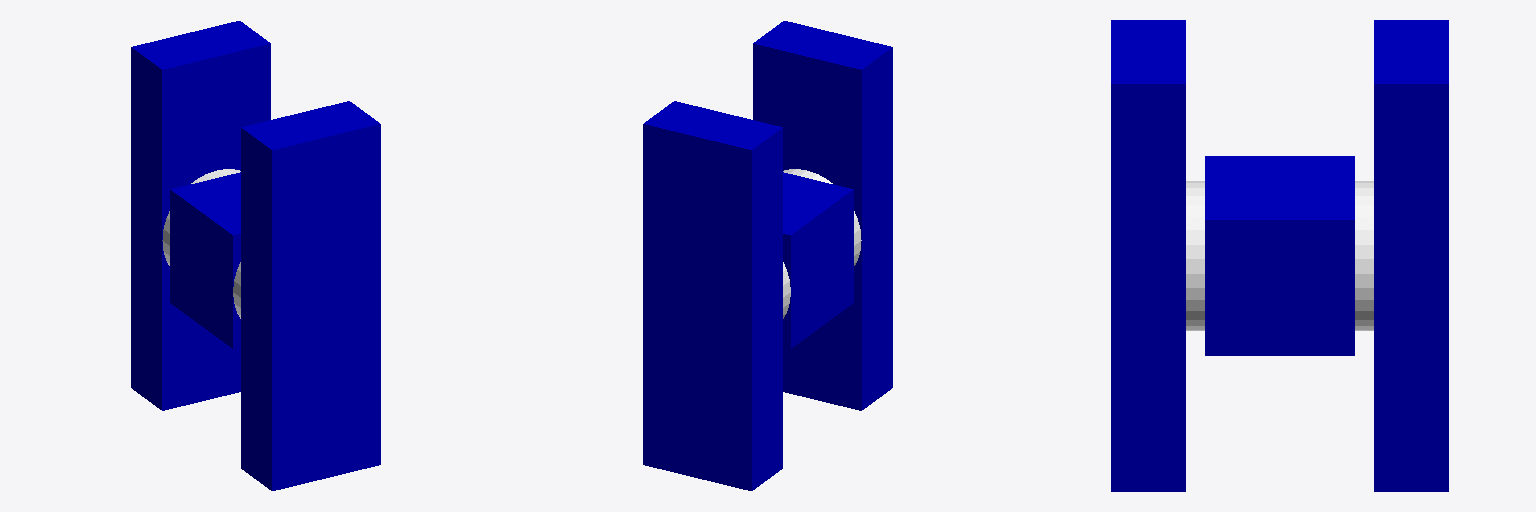
URDF robot description (slider):
<?xml version="1.0"?>
<robot name="slider" xmlns:xacro="http://www.ros.org/wiki/xacro">

<material name="blue">
    <color rgba="0 0 0.8 1"/>
  </material>
  <material name="black">
    <color rgba="0 0 0 1"/>
  </material>
  <material name="white">
    <color rgba="1 1 1 1"/>
  </material>

  <link name="base_link">
    <visual>
      <geometry>
        <box size = "0.4 0.4 0.4"/>
      </geometry>
      <material name="blue"/>
      <origin rpy="0 0 0" xyz="0 0 0.6"/>
    </visual>
    <collision>
      <geometry>
        <box size = "0.4 0.4 0.4"/>
      </geometry>
      <origin rpy="0 0 0" xyz="0 0 0.6"/>
    </collision>
    <inertial>
      <mass value="5"/>
      <inertia ixx="1.0" ixy="0.0" ixz="0.0" iyy="1.0" iyz="0.0" izz="1.0"/>
    </inertial>
  </link>

  <link name="left_base">
    <visual>	
      <geometry>
        <cylinder radius="0.2" length="0.1"/>
      </geometry>
      <material name="white"/>
      <origin rpy="1.57 0 0" xyz="0 0 0"/>
    </visual>
    <collision>
      <geometry>
        <cylinder radius="0.4" length="0.1"/>
      </geometry>
      <origin rpy="1.57 0 0" xyz="0 0 0"/>
    </collision>
    <inertial>
      <mass value="10"/>
      <inertia ixx="1.0" ixy="0.0" ixz="0.0" iyy="1.0" iyz="0.0" izz="1.0"/>
    </inertial>
  </link>

  <joint name="left_base_joint" type="revolute">
  	<axis xyz="0 1 0"/>
    <limit effort="1000.0" lower="-1.5707" upper="1.5707" velocity="0.5"/>
    <origin rpy="0 0 0" xyz="0 -0.25 0.6"/>
    <parent link="base_link"/>
    <child link="left_base"/>
  </joint>

  <link name="left_leg">
    <visual>
      <geometry>
        <box size="0.4 0.2 1.2"/>
      </geometry>
      <origin rpy="0 0 0" xyz="0 0 0"/>
      <material name="blue"/>
    </visual>
    <collision>
      <geometry>
        <box size="0.4 0.2 1.2"/>
      </geometry>
      <origin rpy="0 0 0" xyz="0 0 0"/>
    </collision>
    <inertial>
      <mass value="10"/>
      <inertia ixx="1.0" ixy="0.0" ixz="0.0" iyy="1.0" iyz="0.0" izz="1.0"/>
    </inertial>
  </link>


  <joint name="base_to_left_leg" type="prismatic">
  	<axis xyz="0 0 1"/>
    <limit effort="1000.0" lower="-0.3" upper="0.3" velocity="0.5"/>
    <origin rpy="0 0 0" xyz="0 -0.1 0"/>
    <parent link="left_base"/>
    <child link="left_leg"/>
  </joint>

  <link name="right_base">
    <visual>	
      <geometry>
        <cylinder radius="0.2" length="0.1"/>
      </geometry>
      <material name="white"/>
      <origin rpy="1.57 0 0" xyz="0 0 0"/>
    </visual>
    <collision>
      <geometry>
        <cylinder radius="0.4" length="0.1"/>
      </geometry>
      <origin rpy="1.57 0 0" xyz="0 0 0"/>
    </collision>
    <inertial>
      <mass value="10"/>
      <inertia ixx="1.0" ixy="0.0" ixz="0.0" iyy="1.0" iyz="0.0" izz="1.0"/>
    </inertial>
  </link>

  <joint name="right_base_joint" type="revolute">
  	<axis xyz="0 1 0"/>
    <limit effort="1000.0" lower="-1.5707" upper="1.5707" velocity="0.5"/>
    <origin rpy="0 0 0" xyz="0 0.25 0.6"/>
    <parent link="base_link"/>
    <child link="right_base"/>
  </joint>

  <link name="right_leg">
    <visual>
      <geometry>
        <box size="0.4 0.2 1.2"/>
      </geometry>
      <origin rpy="0 0 0" xyz="0 0 0"/>
      <material name="blue"/>
    </visual>
    <collision>
      <geometry>
        <box size="0.4 0.2 1.2"/>
      </geometry>
      <origin rpy="0 0 0" xyz="0 0 0"/>
    </collision>
    <inertial>
      <mass value="10"/>
      <inertia ixx="1.0" ixy="0.0" ixz="0.0" iyy="1.0" iyz="0.0" izz="1.0"/>
    </inertial>
  </link>


  <joint name="base_to_right_leg" type="prismatic">
  	<axis xyz="0 0 1"/>
    <limit effort="1000.0" lower="-0.3" upper="0.3" velocity="0.5"/>
    <origin rpy="0 0 0" xyz="0 0.1 0"/>
    <parent link="right_base"/>
    <child link="right_leg"/>
  </joint>

</robot>

--- What the picture shows (computed from the rendered views, not written in the file) ---
The picture shows the robot from 3 angles, left to right: view 1: azimuth 30°, elevation 25°; view 2: azimuth 150°, elevation 25°; view 3: azimuth 270°, elevation 25°; orthographic projection.
Model slider with 5 links and 4 joints (2 revolute, 2 prismatic), rooted at base_link, posed all joints at 0.
Visible links, largest first — view 1: left_leg, right_leg, base_link, right_base; view 2: right_leg, left_leg, base_link, left_base; view 3: left_leg, right_leg, base_link, left_base, right_base.
Link boxes in pixels (box(x1,y1,x2,y2)): left_leg: box(241, 101, 380, 490); right_leg: box(131, 21, 270, 410); base_link: box(170, 172, 240, 348); right_base: box(162, 169, 240, 265); right_leg: box(643, 101, 782, 490); left_leg: box(753, 21, 892, 410); base_link: box(783, 172, 853, 348); left_base: box(783, 169, 861, 265); left_leg: box(1111, 20, 1185, 491); right_leg: box(1374, 20, 1448, 491); base_link: box(1205, 156, 1354, 355); left_base: box(1186, 181, 1204, 330); right_base: box(1355, 181, 1373, 330).
Size in the robot's own frame: 0.4 by 0.9 by 1.2 metres.
Geometry: primitives only (box / cylinder / sphere), no mesh files.